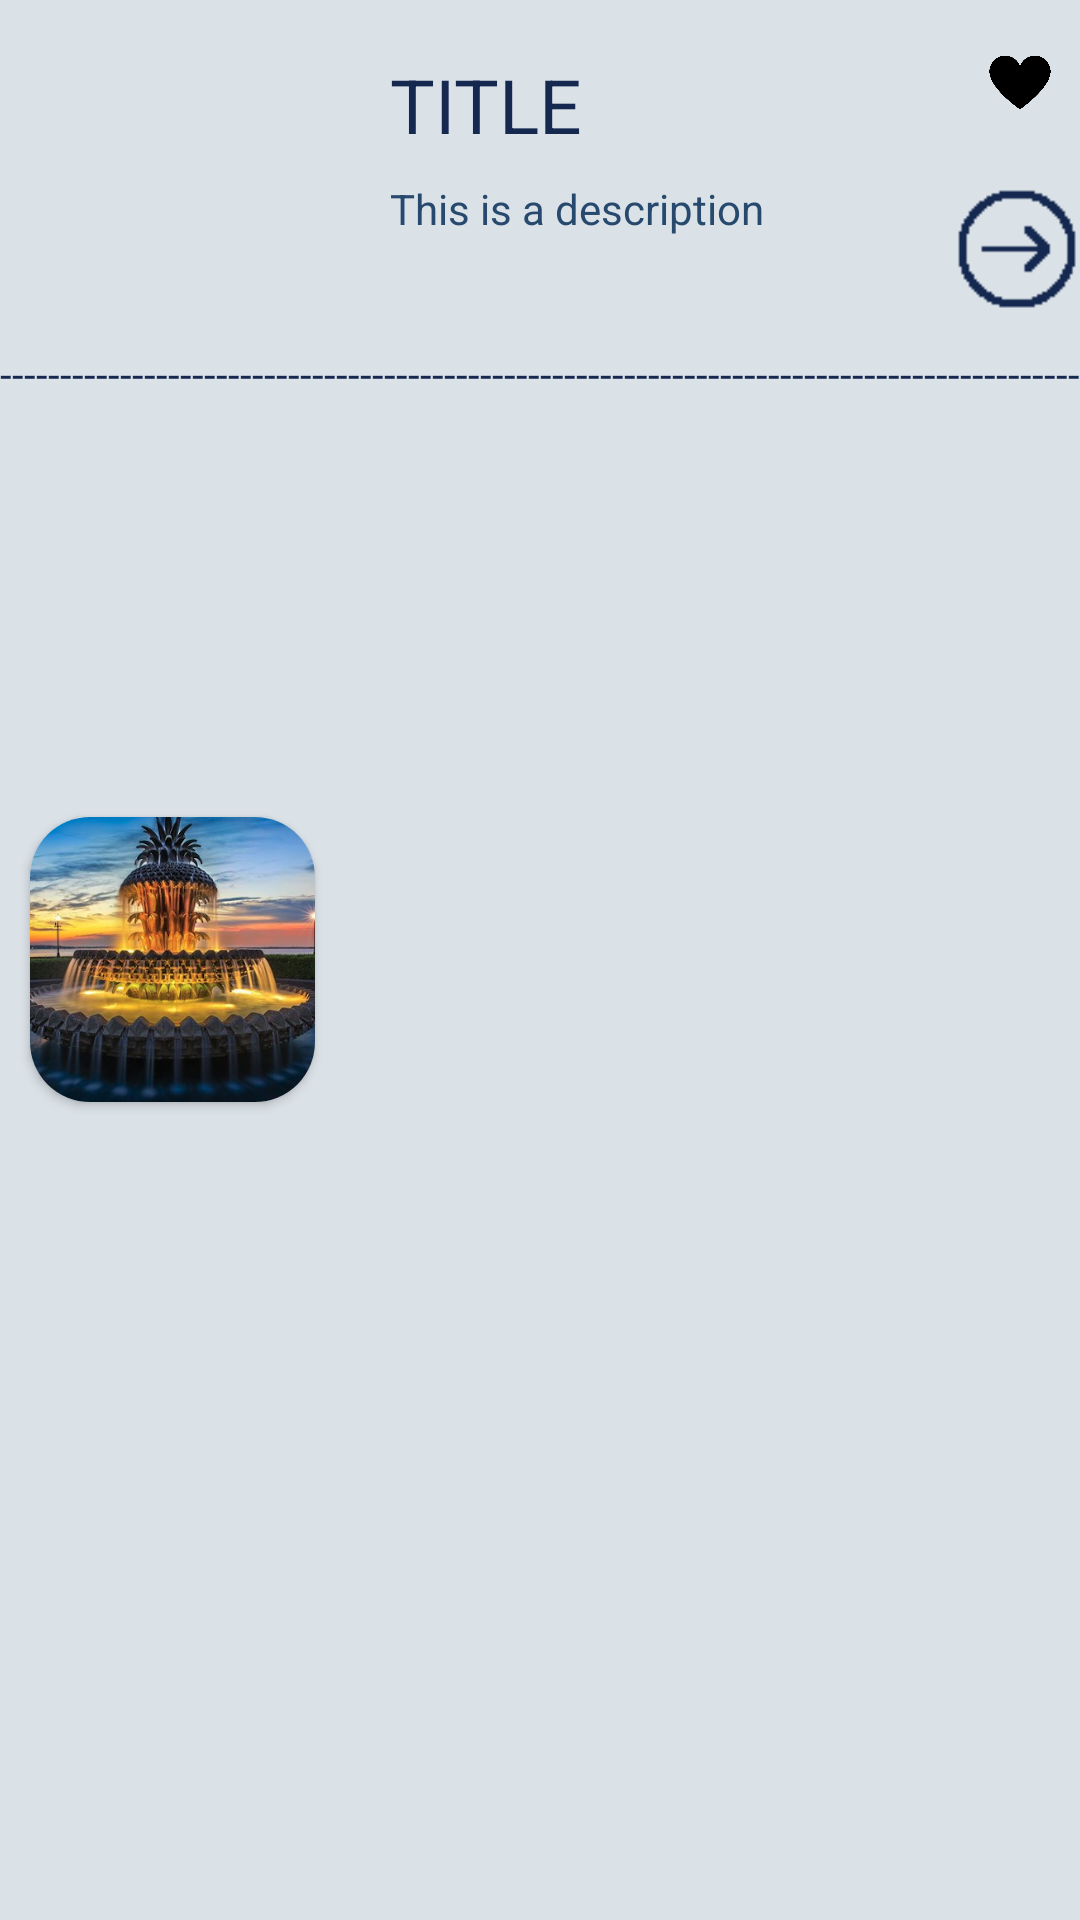

Screen size 1080×1920. Icon name, then its center in pixels as point (x, y):
blk heart: point (1020, 82)
click: point (1017, 249)
pineapple: point (172, 959)
